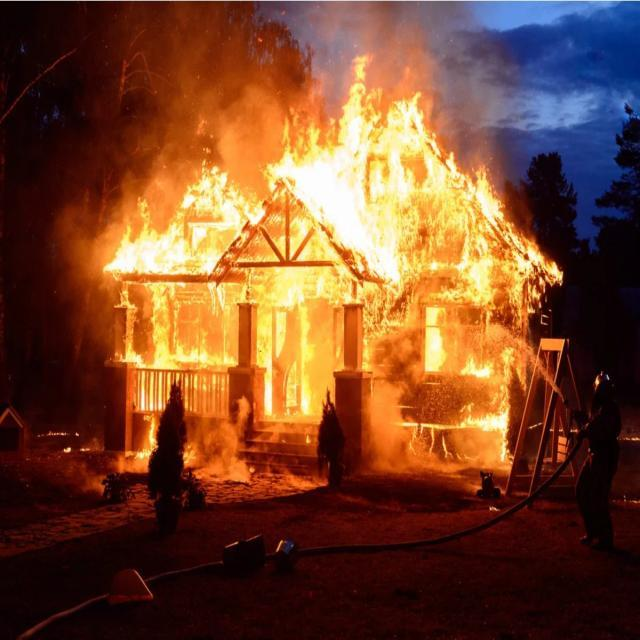Fire: (140, 78, 557, 410)
Smoke: (84, 12, 456, 282)
